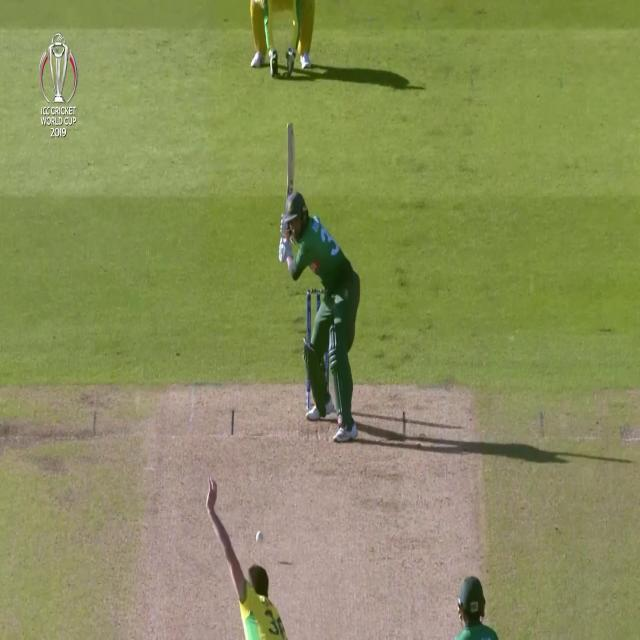ball: (254, 524, 266, 552)
